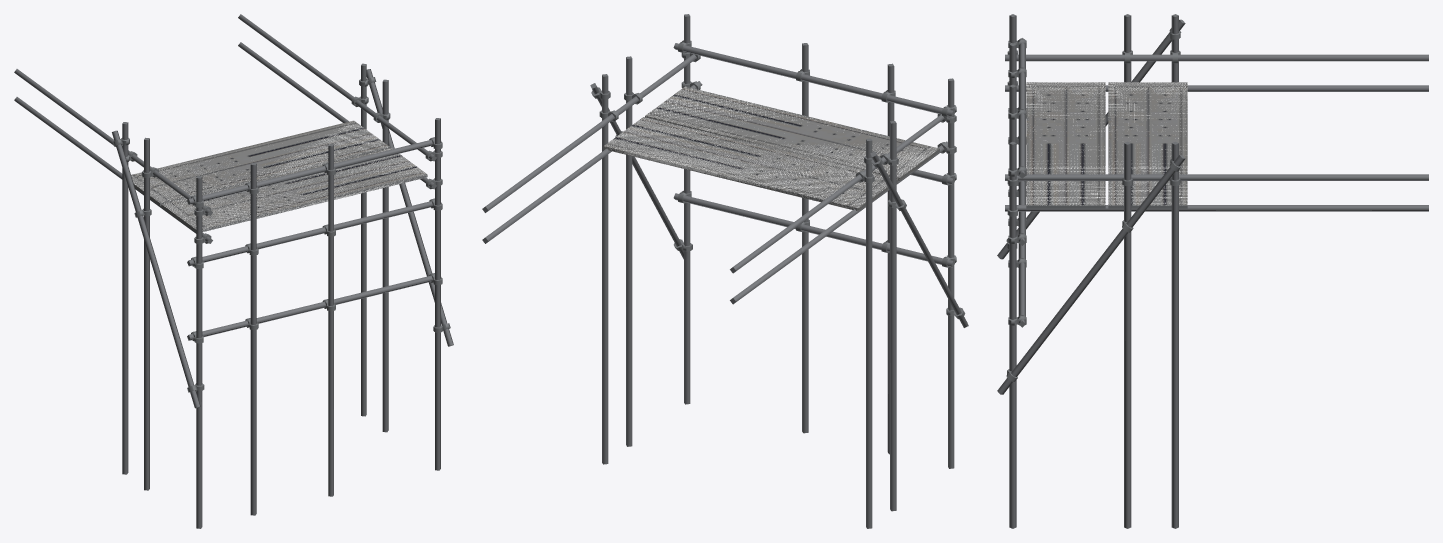
File: objects_un_t07scaffolding01.gltf
3 renders of one model, left to right at view 1: azimuth 30°, elevation 25°; view 2: azimuth 150°, elevation 25°; view 3: azimuth 270°, elevation 25°, orthographic. The views are drawn at different scales.
Parts seen in each view (by area): view 1: um_objects_un_t07scaffolding01_model_lod0Shape:objects_un_t0 (×2); view 2: um_objects_un_t07scaffolding01_model_lod0Shape:objects_un_t0 (×2); view 3: um_objects_un_t07scaffolding01_model_lod0Shape:objects_un_t0 (×2).
Boxes of the visible parts, box(x1,y1,x2,y2) form: um_objects_un_t07scaffolding01_model_lod0Shape:objects_un_t0 (×2): box(14, 14, 453, 528); um_objects_un_t07scaffolding01_model_lod0Shape:objects_un_t0 (×2): box(482, 14, 968, 528); um_objects_un_t07scaffolding01_model_lod0Shape:objects_un_t0 (×2): box(997, 14, 1428, 528).
Size of what is drawn, in the model's own units: 6.22 by 8 by 8.15.
Materials: 2 (1 with a texture image).
